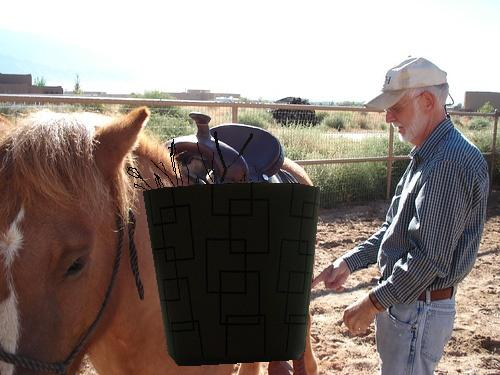tampered: (128, 132, 320, 366)
